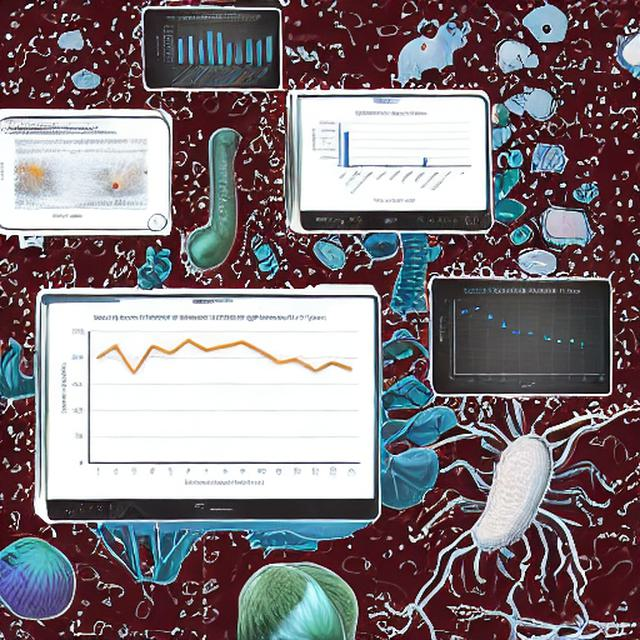Graph: (52, 307, 368, 495), (436, 285, 610, 393), (306, 106, 476, 208), (153, 14, 277, 88)
